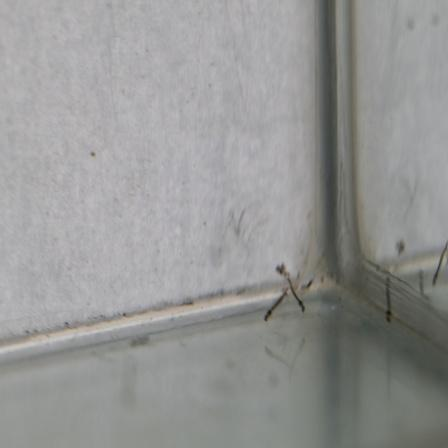Jentik-Nyamuk: (379, 272, 396, 325), (288, 276, 307, 313)
